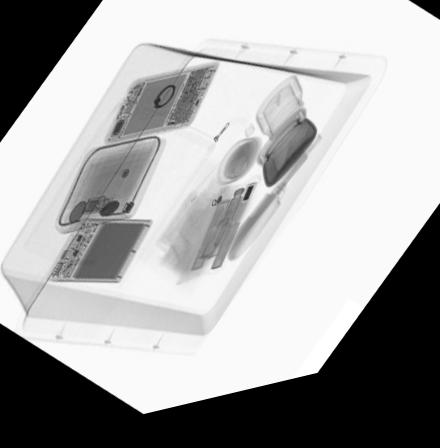Powerbank: (45, 223, 152, 292)
